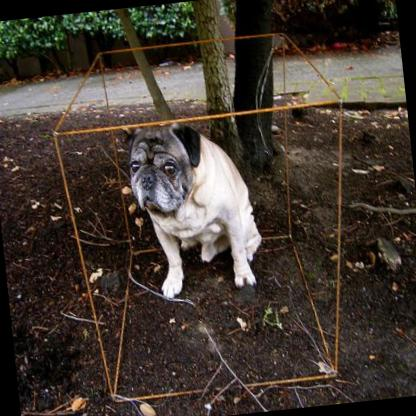pug: (122, 113, 268, 305)
